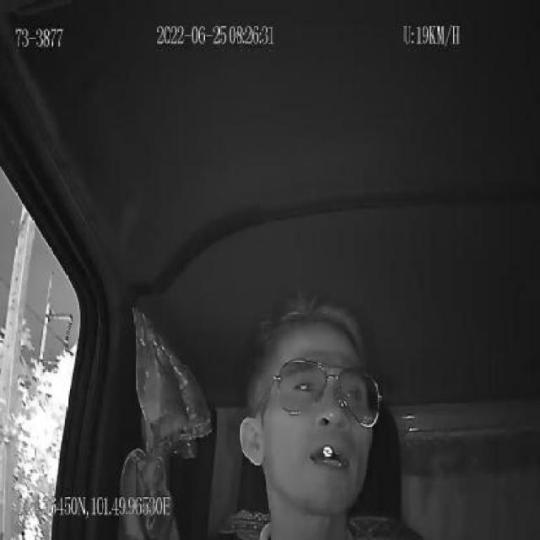smoking: (321, 443, 335, 466)
